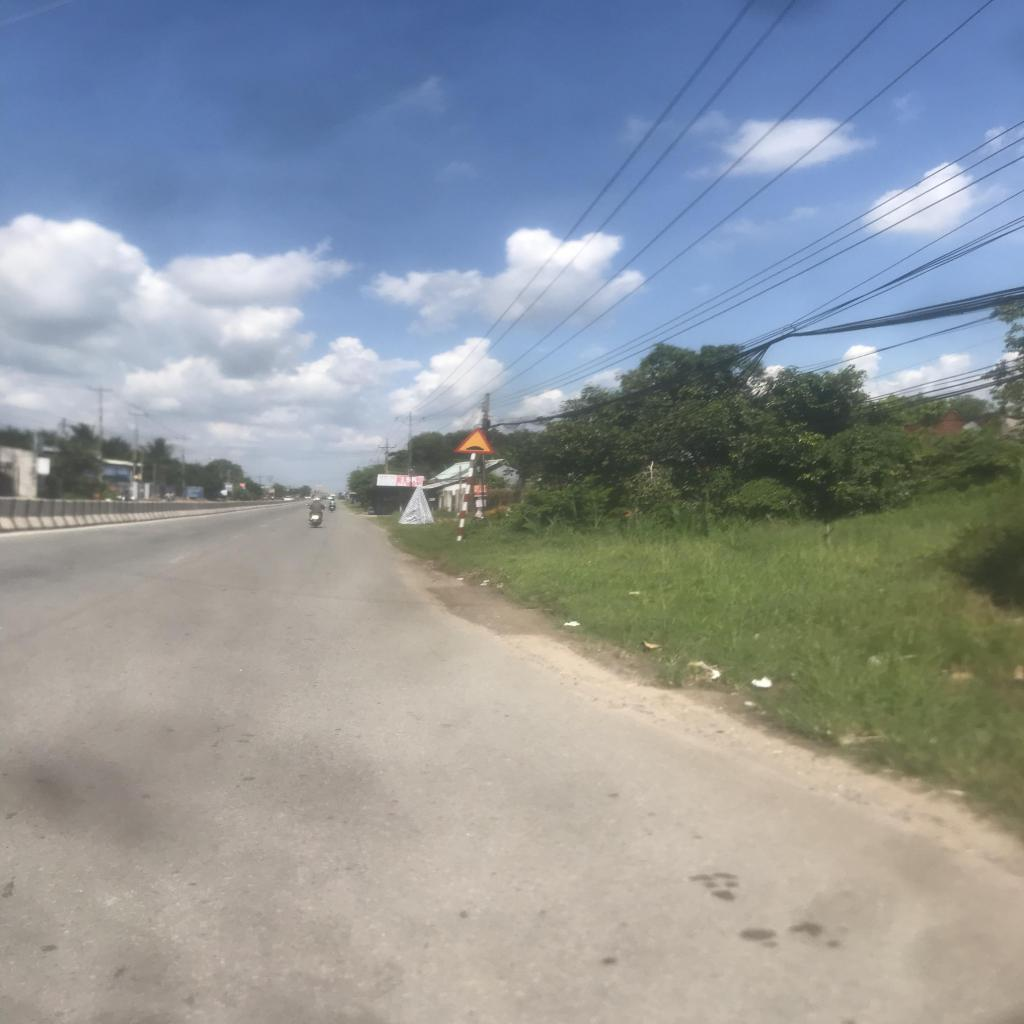duong_co_song_map_mo_nhan_tao: (454, 426, 495, 453)
